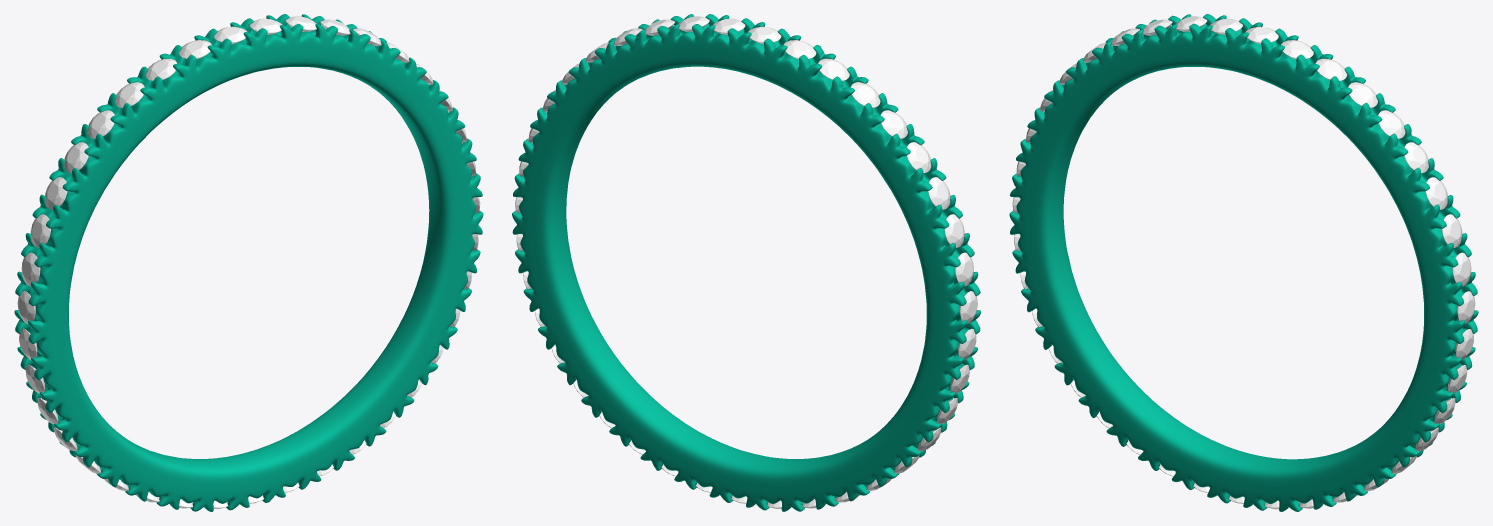
The model's file is BE210E_RENDER.glb.
3 renders of one model, left to right at view 1: azimuth 30°, elevation 25°; view 2: azimuth 150°, elevation 25°; view 3: azimuth 330°, elevation 25°, orthographic.
Visible parts, largest first — view 1: Metal03, Diamond_Round_Gem_BD.013, Diamond_Round_Gem_BD.014, Diamond_Round_Gem_BD.012; view 2: Metal03, Diamond_Round_Gem_BD.013, Diamond_Round_Gem_BD.014, Diamond_Round_Gem_BD.012, Diamond_Round_Gem_BD.015; view 3: Metal03, Diamond_Round_Gem_BD.024, Diamond_Round_Gem_BD.023, Diamond_Round_Gem_BD.025.
Boxes of the visible parts, <box> form: Metal03: <box>14,14,483,511</box>; Diamond_Round_Gem_BD.013: <box>64,142,88,173</box>; Diamond_Round_Gem_BD.014: <box>87,110,114,138</box>; Diamond_Round_Gem_BD.012: <box>45,177,67,209</box>; Metal03: <box>512,14,980,511</box>; Diamond_Round_Gem_BD.013: <box>906,142,931,173</box>; Diamond_Round_Gem_BD.014: <box>880,110,907,138</box>; Diamond_Round_Gem_BD.012: <box>928,177,950,209</box>; Diamond_Round_Gem_BD.015: <box>850,82,880,107</box>; Metal03: <box>1009,14,1478,511</box>; Diamond_Round_Gem_BD.024: <box>1404,142,1428,173</box>; Diamond_Round_Gem_BD.023: <box>1378,110,1405,138</box>; Diamond_Round_Gem_BD.025: <box>1425,177,1447,209</box>.
Bounding box in the file's own units: 20.14 × 20.12 × 1.59.
